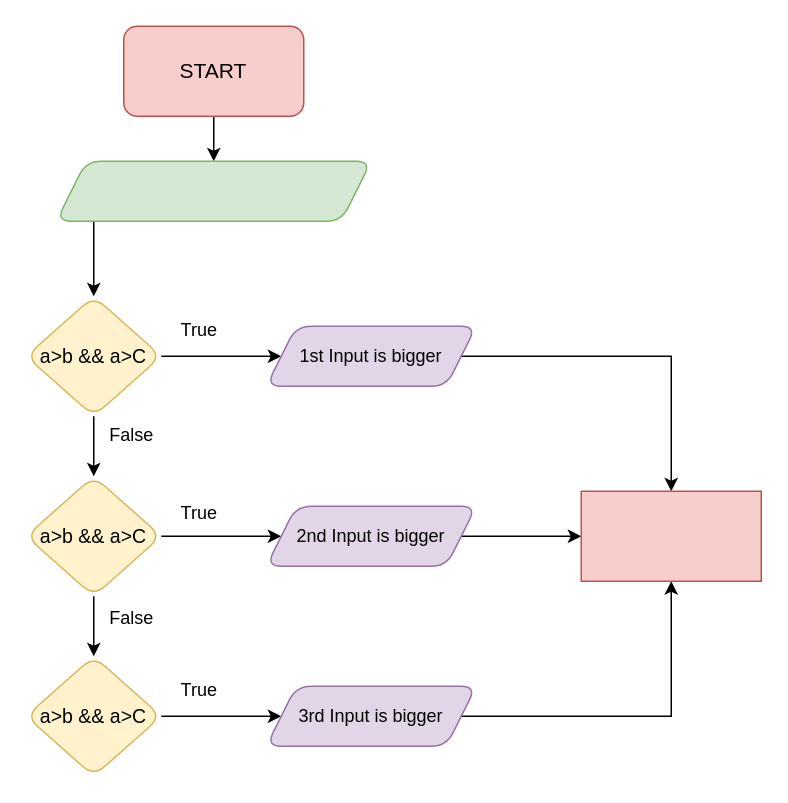
Some shapes in this 788 by 803 pixel diagram are drawn without their labels. Each missing label, with the centre of its shape:
"END" goes at point (670, 535).
"Three Input - a, b, c;" goes at point (213, 190).
